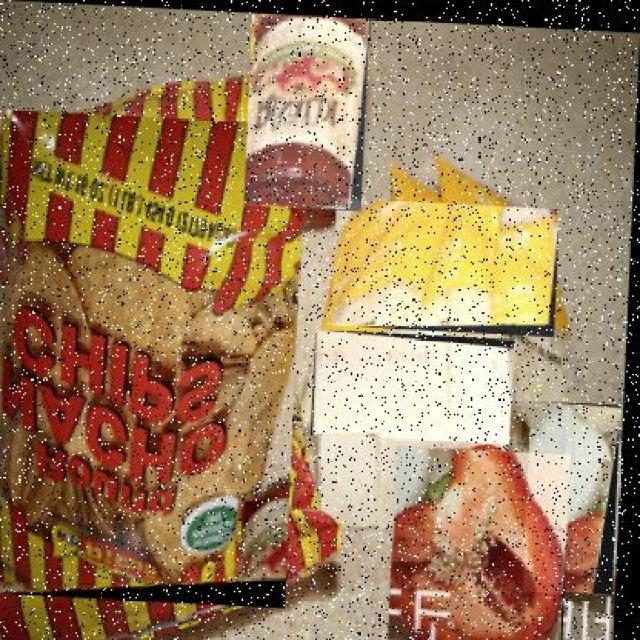cheese: (334, 194, 563, 332), (315, 326, 519, 441)
ketchup: (246, 11, 372, 209)
nacho_chips: (0, 109, 308, 606)
onion: (528, 394, 625, 588)
pimento: (392, 440, 577, 638)
